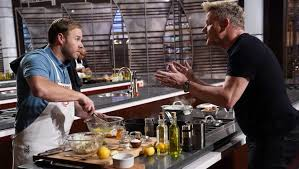Caution: (18, 1, 270, 118)
